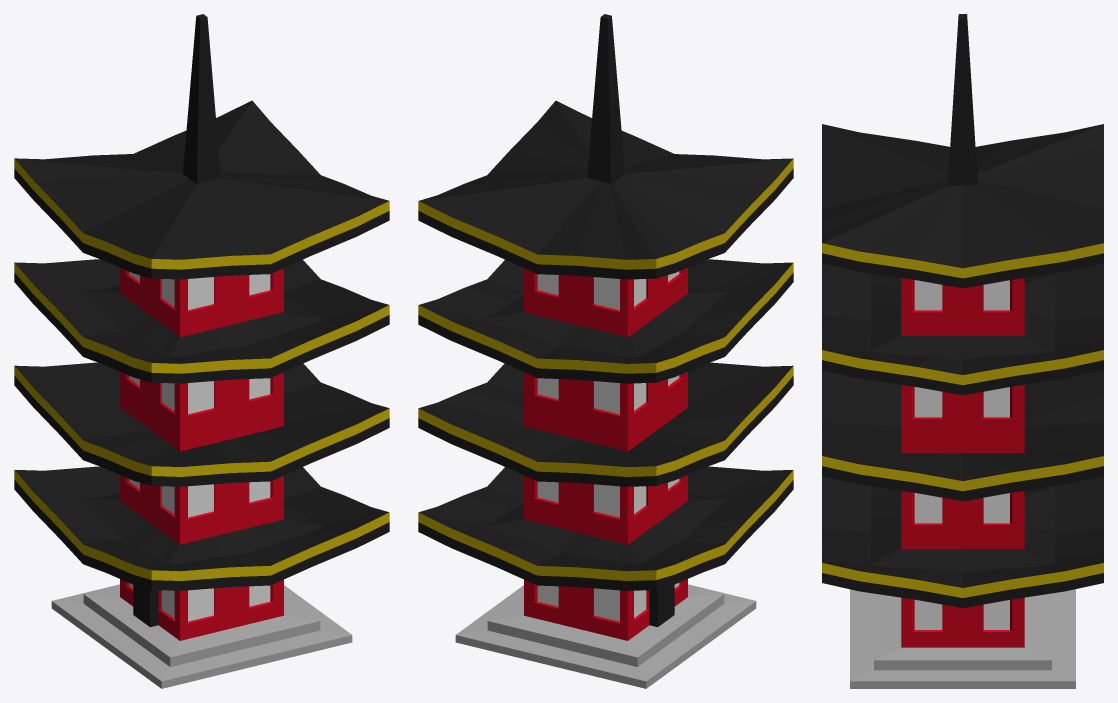
Rendered from shrine 1.fbx.
3 renders of one model, left to right at view 1: azimuth 30°, elevation 25°; view 2: azimuth 150°, elevation 25°; view 3: azimuth 270°, elevation 25°, orthographic. The views are drawn at different scales.
Visible parts, largest first — view 1: Cube; view 2: Cube; view 3: Cube.
Boxes of the visible parts, x1,y1,x2,y2 form: Cube: (14,14,389,688); Cube: (418,14,793,688); Cube: (822,14,1103,688).
Size of the model in its own units: 2495 by 6107 by 2495.
